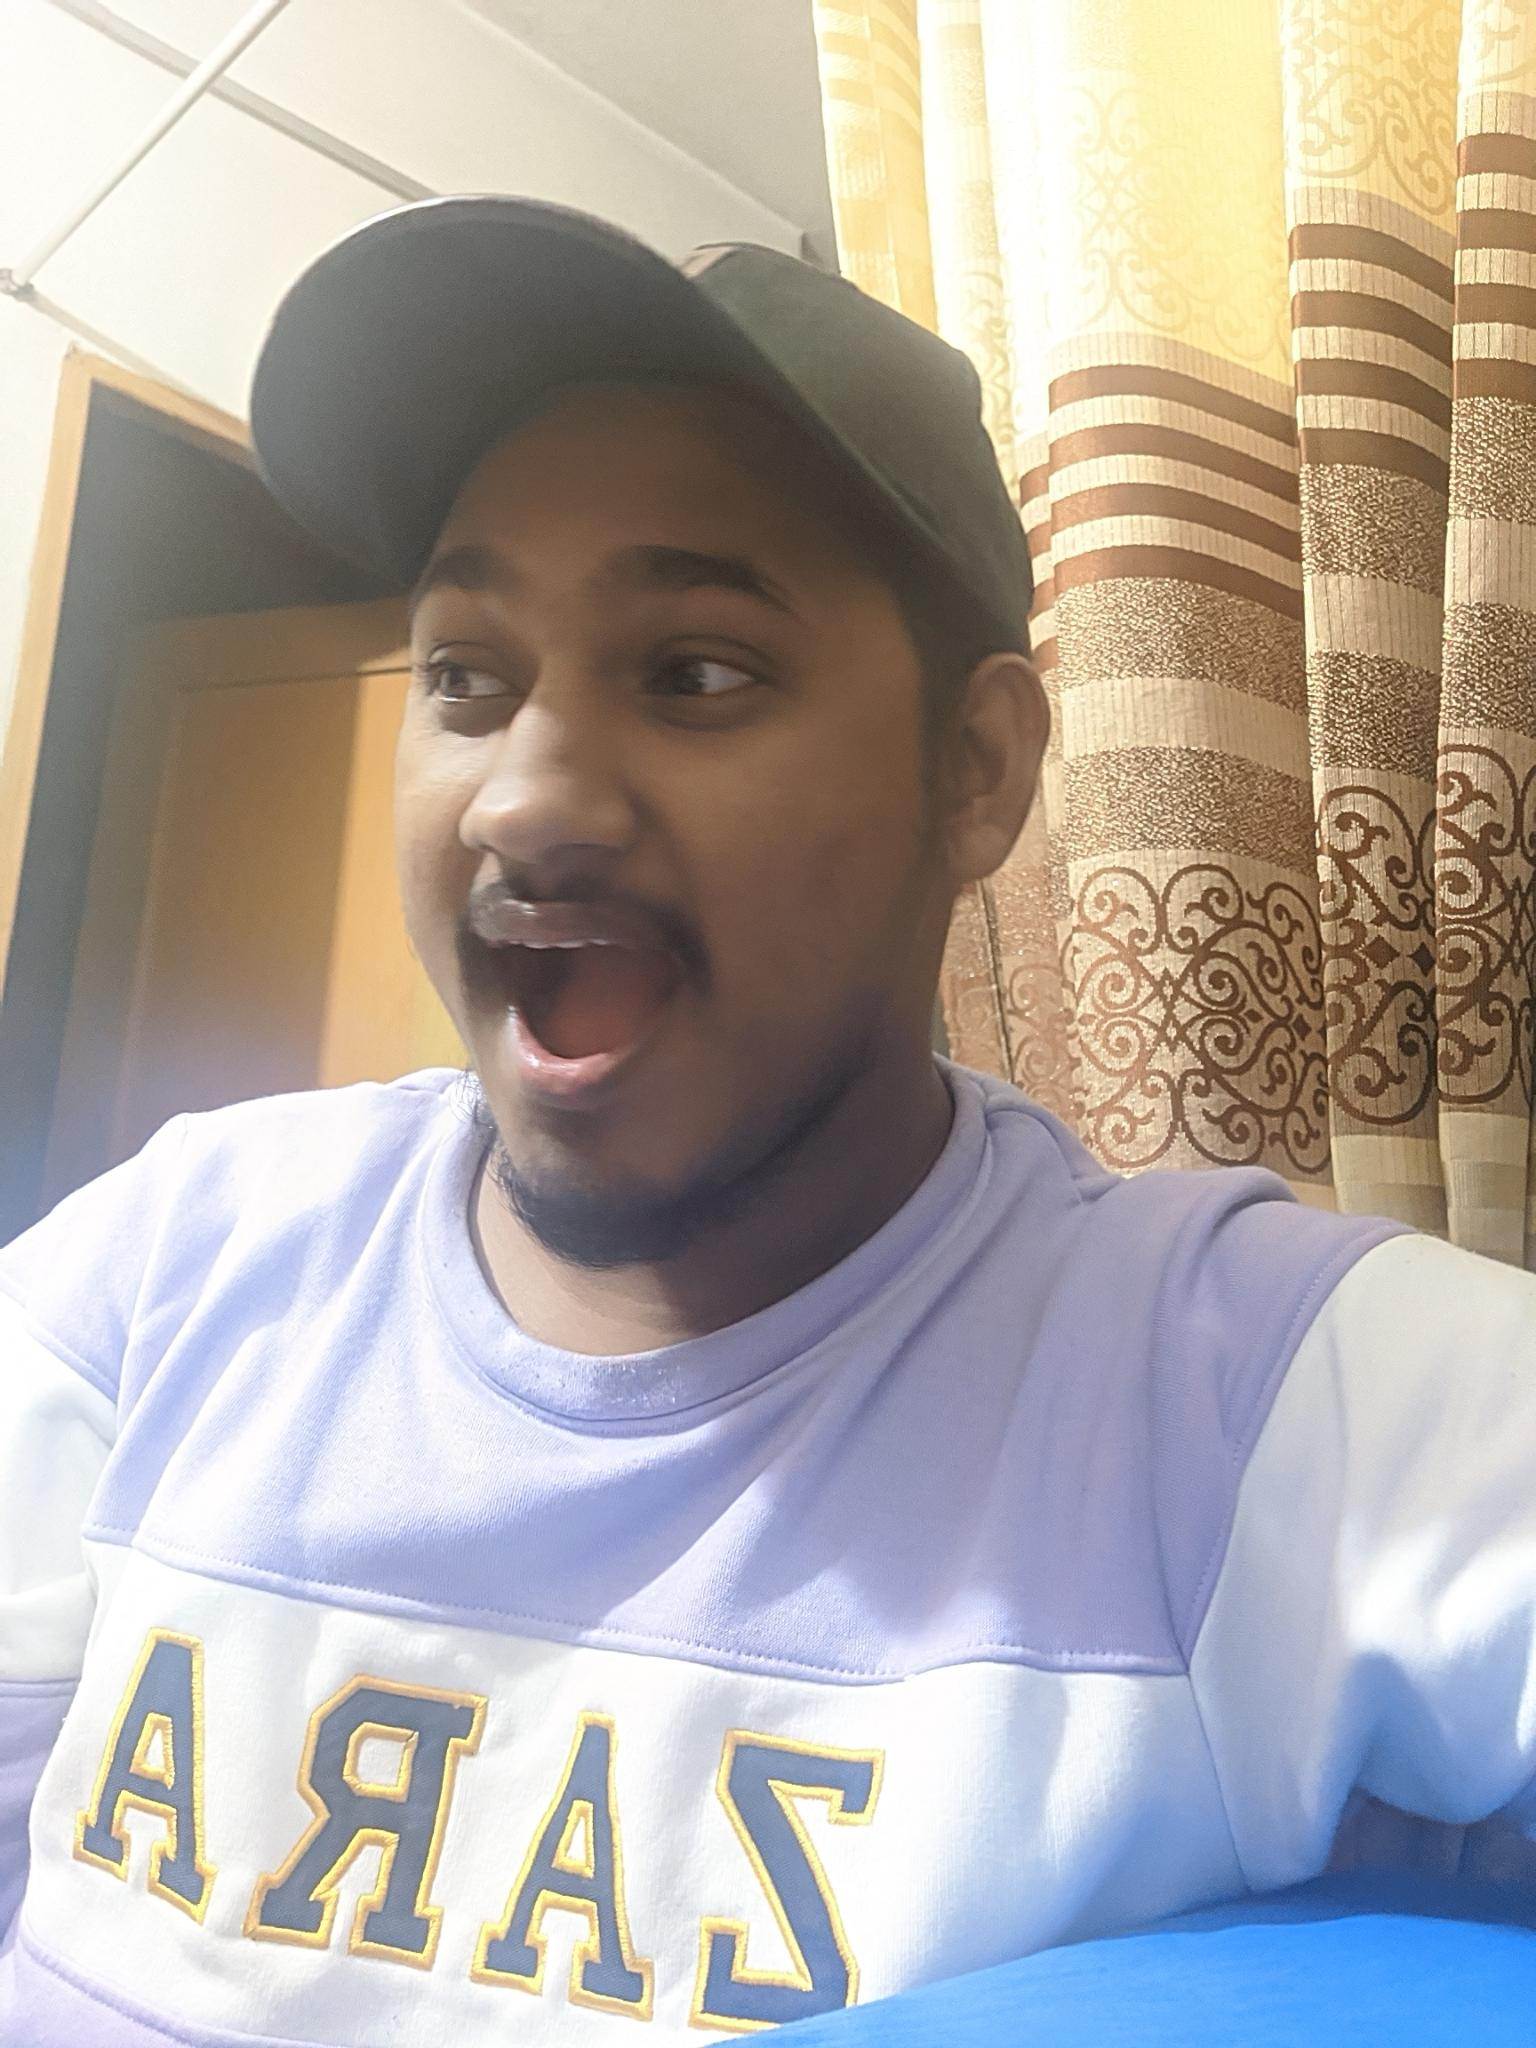Surprise: (344, 472, 902, 1240)
